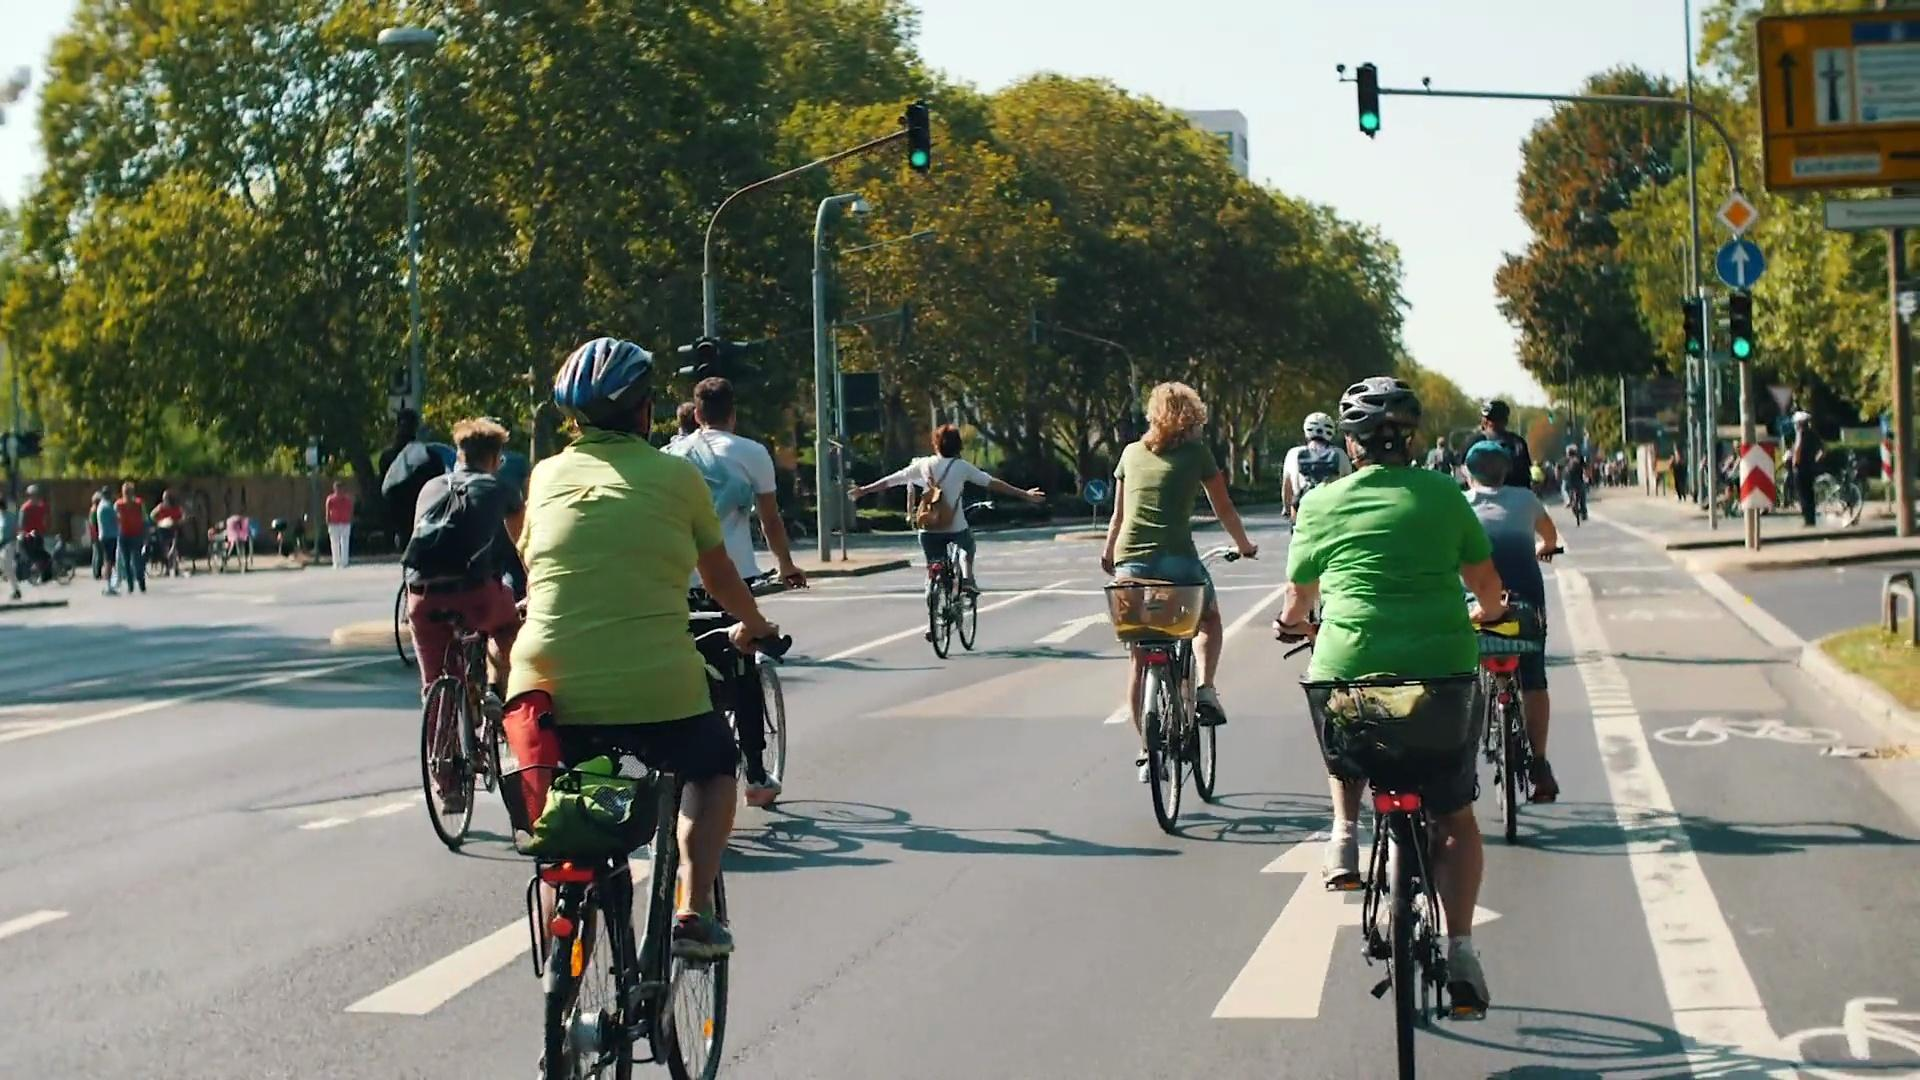cyclist: (507, 316, 742, 1079), (1277, 392, 1502, 1079), (1089, 380, 1238, 840), (863, 394, 1039, 678)
